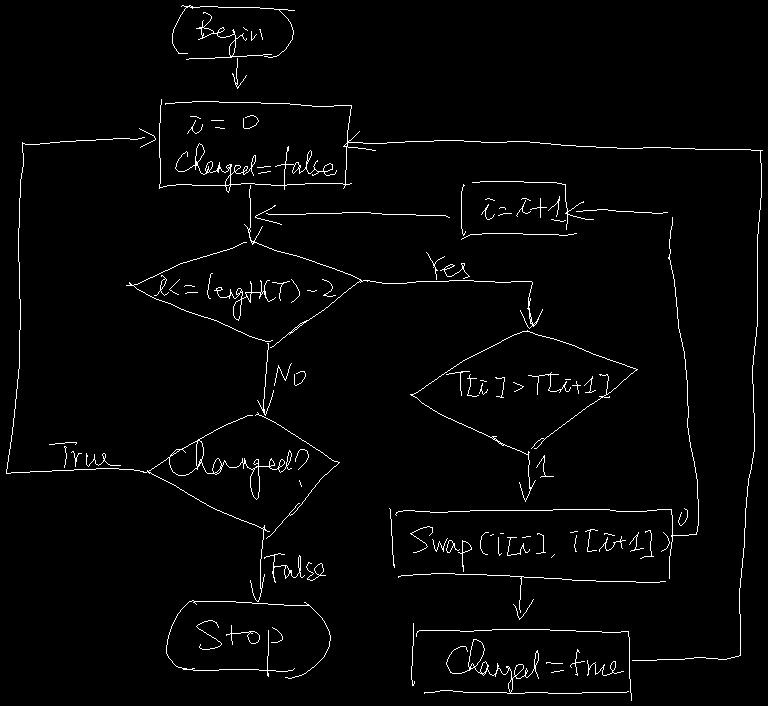arrow: (343, 131, 762, 660), (6, 128, 155, 473), (565, 201, 698, 536), (360, 280, 542, 328), (255, 205, 449, 224), (250, 525, 266, 601), (257, 343, 273, 415), (244, 185, 262, 244), (513, 577, 533, 619), (519, 451, 535, 501), (232, 58, 246, 88)
decision: (410, 330, 637, 454), (126, 240, 361, 347), (143, 412, 339, 538)
process: (389, 508, 672, 582), (159, 99, 351, 188), (411, 623, 631, 700), (461, 181, 576, 239)
terminator: (166, 600, 330, 678), (172, 5, 294, 59)
text: (175, 115, 336, 192), (410, 526, 669, 571), (446, 639, 623, 692), (154, 273, 335, 320), (169, 440, 308, 499), (196, 620, 282, 676), (446, 371, 609, 397), (196, 12, 262, 57), (481, 196, 565, 221), (49, 442, 120, 467), (264, 553, 325, 582), (426, 252, 469, 279), (274, 363, 305, 385), (536, 455, 553, 477), (678, 508, 687, 525)
